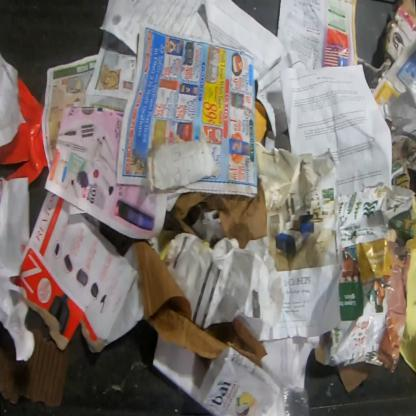cardboard: (10, 191, 138, 355), (169, 177, 268, 250), (382, 0, 415, 65)
rigid_plastic: (0, 76, 48, 186)
